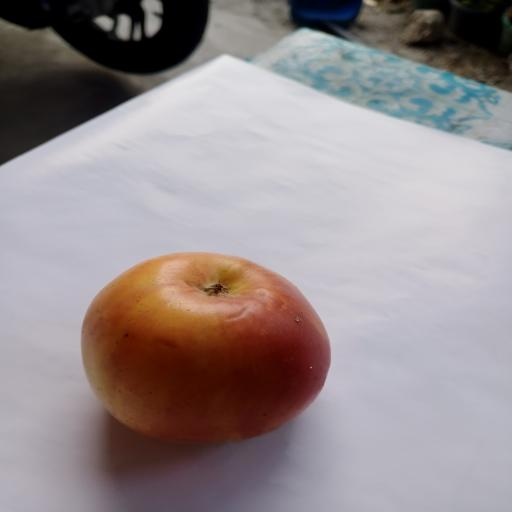apple-ripe: (70, 241, 335, 450)
